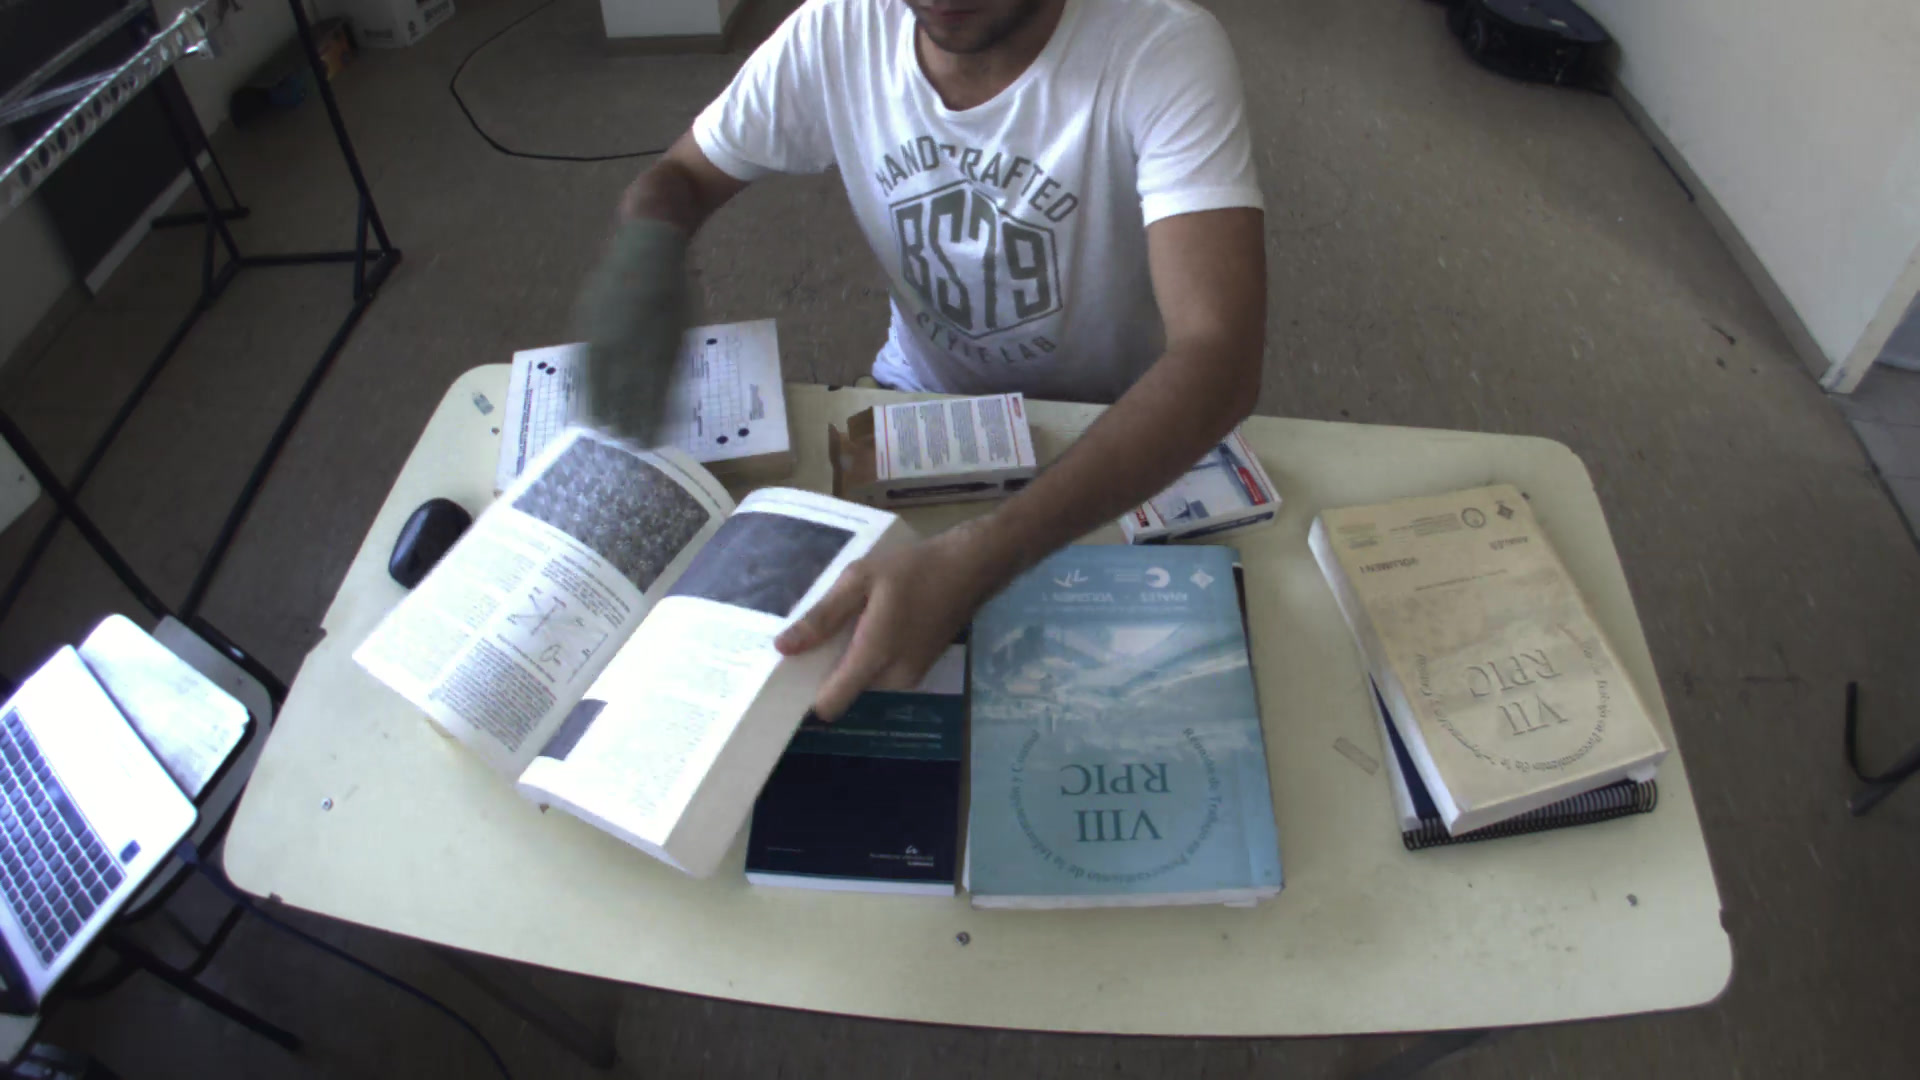hand: (767, 531, 955, 736), (572, 216, 696, 452)
